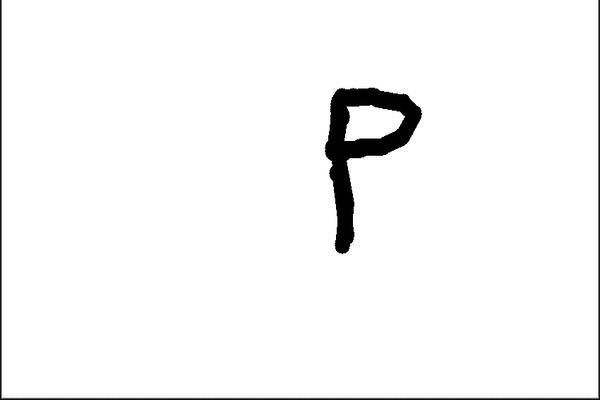P: (313, 72, 422, 264)
